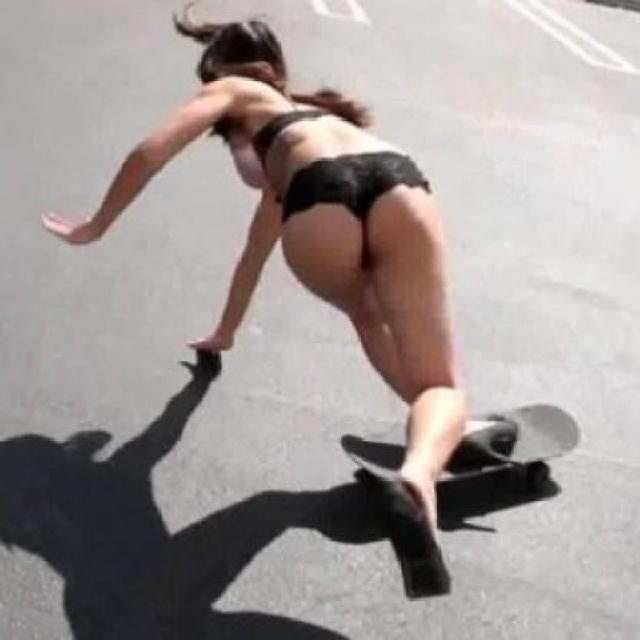fall: (38, 12, 514, 596)
